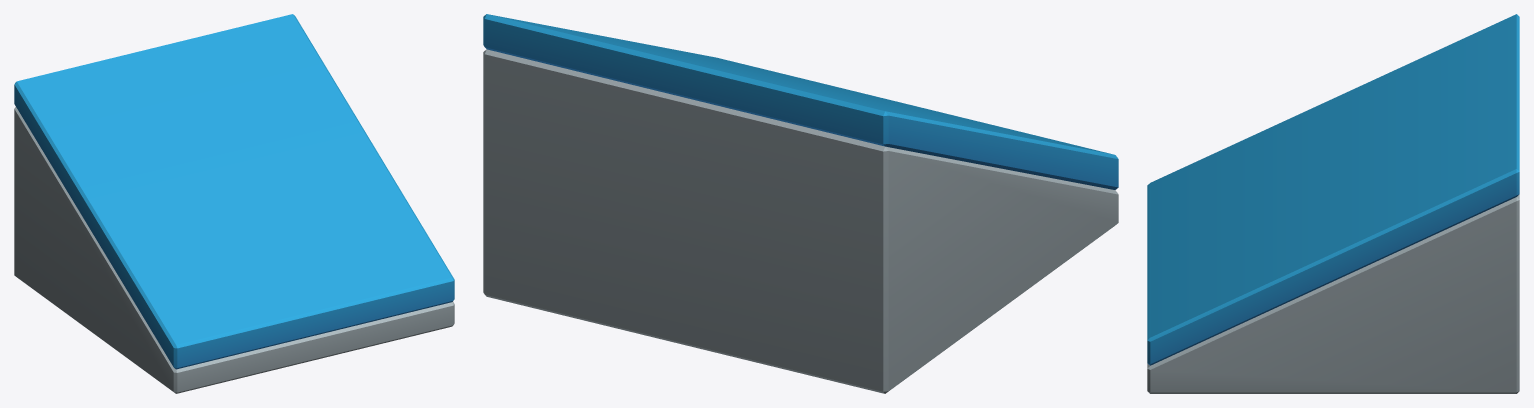
Rendered from kaykit_platform_slope_6x6x4_blue.glb.
3 views of the same model, side by side, from view 1: azimuth 30°, elevation 25°; view 2: azimuth 150°, elevation 25°; view 3: azimuth 270°, elevation 25° (orthographic). The views are drawn at different scales.
Visible parts, largest first — view 1: platform_slope_6x6x4_blue_visual; view 2: platform_slope_6x6x4_blue_visual; view 3: platform_slope_6x6x4_blue_visual.
Boxes of the visible parts, bbox=[...] form: platform_slope_6x6x4_blue_visual: bbox=[14, 14, 454, 393]; platform_slope_6x6x4_blue_visual: bbox=[483, 14, 1118, 393]; platform_slope_6x6x4_blue_visual: bbox=[1147, 14, 1519, 393].
Size of what is drawn, in the model's own units: 6 by 4 by 6.
1 material, 1 textured.
